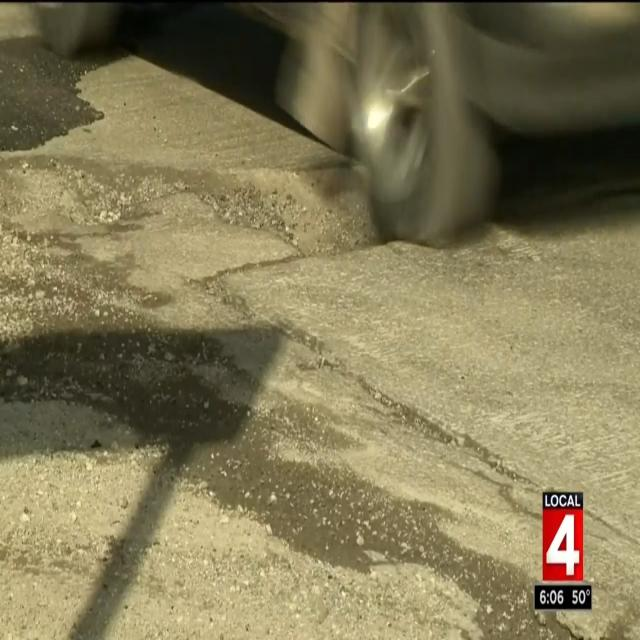pothole: (0, 154, 374, 306)
